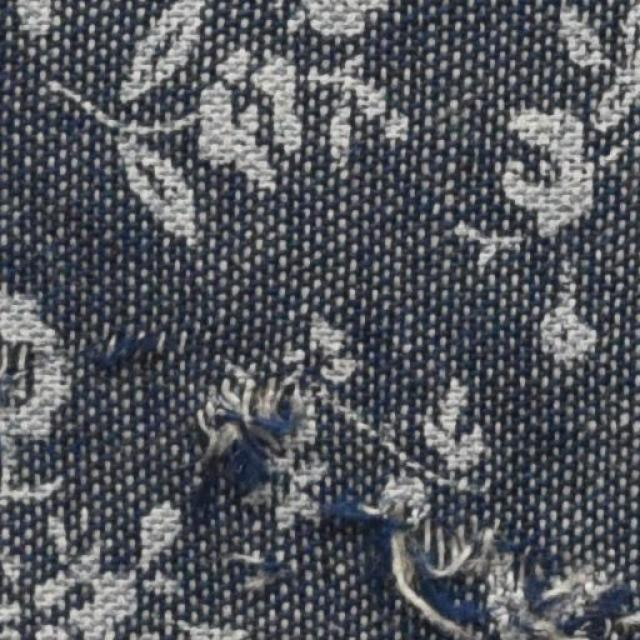Snag: (311, 474, 639, 639), (190, 345, 312, 512), (88, 314, 174, 383)
